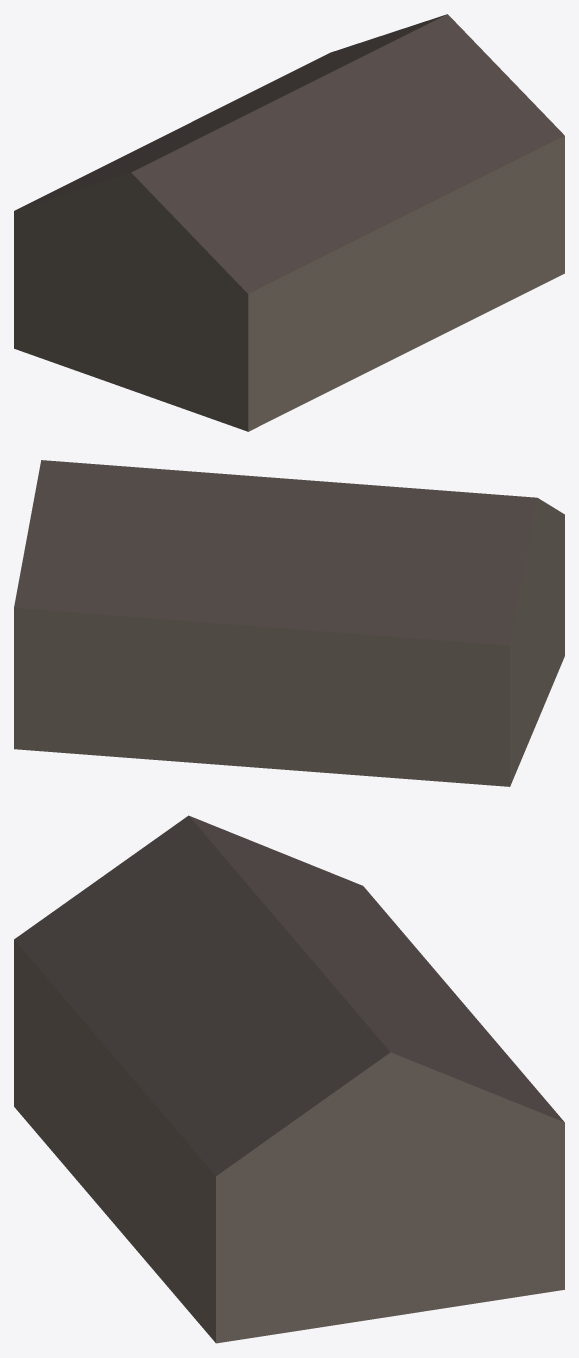
3 views of the same model, one above another, from view 1: azimuth 30°, elevation 25°; view 2: azimuth 150°, elevation 25°; view 3: azimuth 270°, elevation 25° (orthographic). The views are drawn at different scales.
Parts seen in each view (by area): view 1: HP-w693448178; view 2: HP-w693448178; view 3: HP-w693448178.
Part boxes in pixels (box(x1,y1,x2,y2)): HP-w693448178: box(14, 14, 564, 431); HP-w693448178: box(14, 460, 564, 786); HP-w693448178: box(14, 815, 564, 1343).
Bounding box in the file's own units: 22.36 × 9.49 × 17.93.
